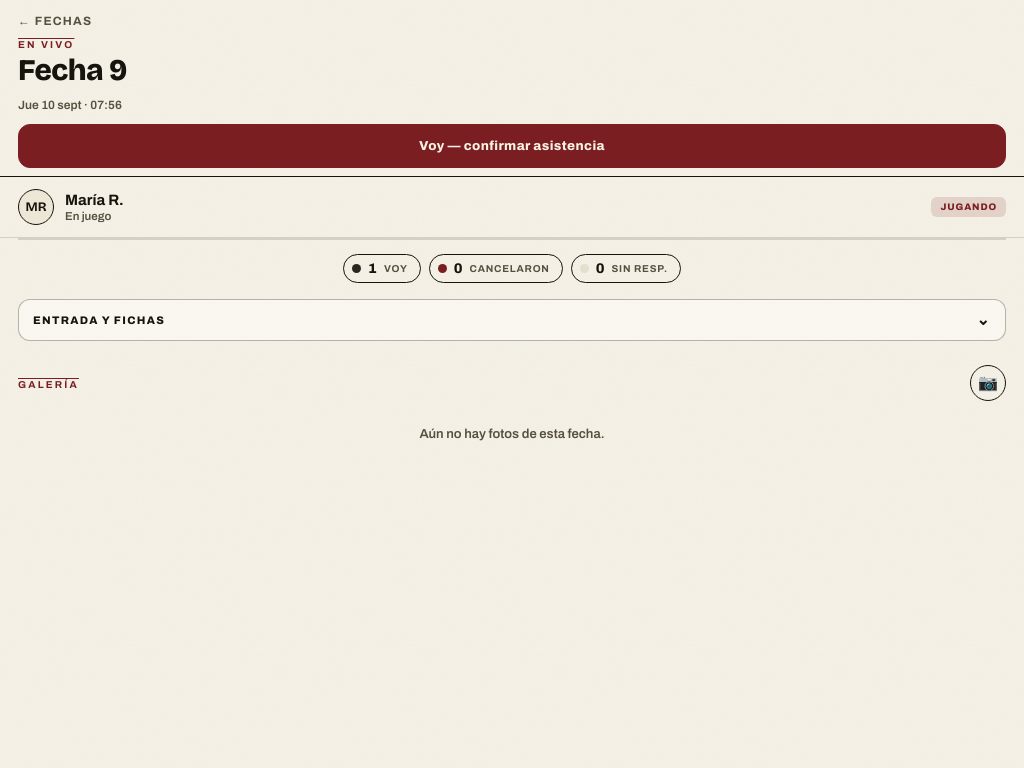
Test: FechaDetail › live + player with NO entry sees "Voy" at the top; confirming surfaces check-in
Expected: the heading "Fecha 9" is shown, [18,56,127,85]
Click the button "Voy — confirmar asistencia": (512, 146) [18,124,1006,168]
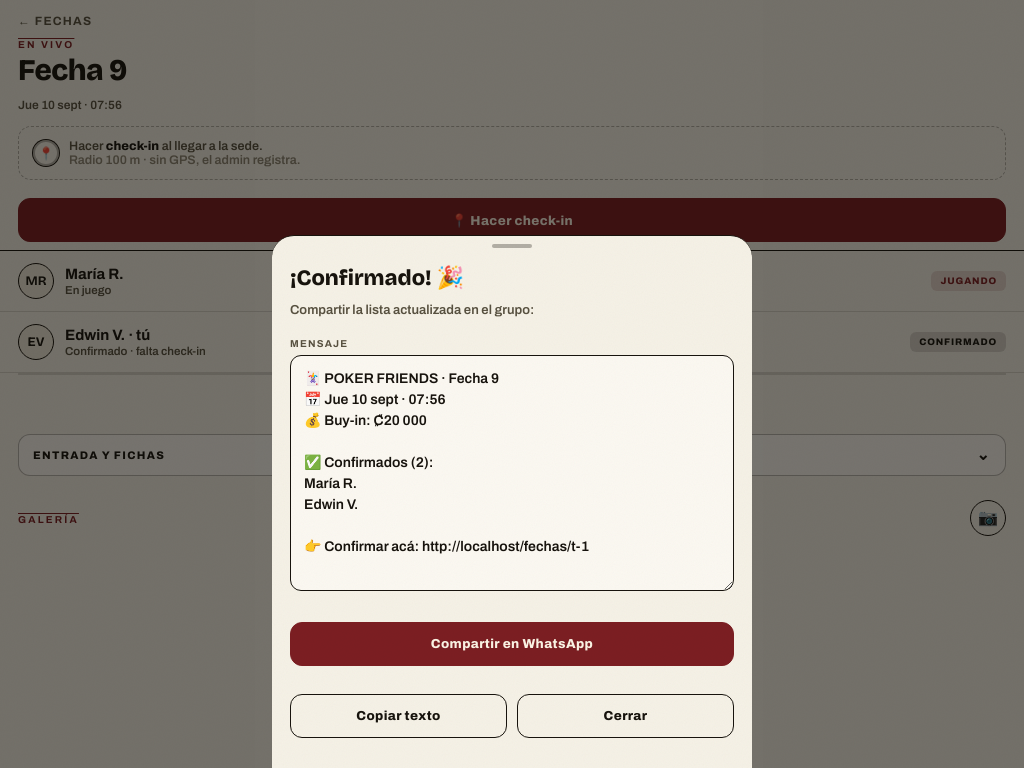
Expected: the button "📍 Hacer check-in" is shown, [18,198,1006,242]
